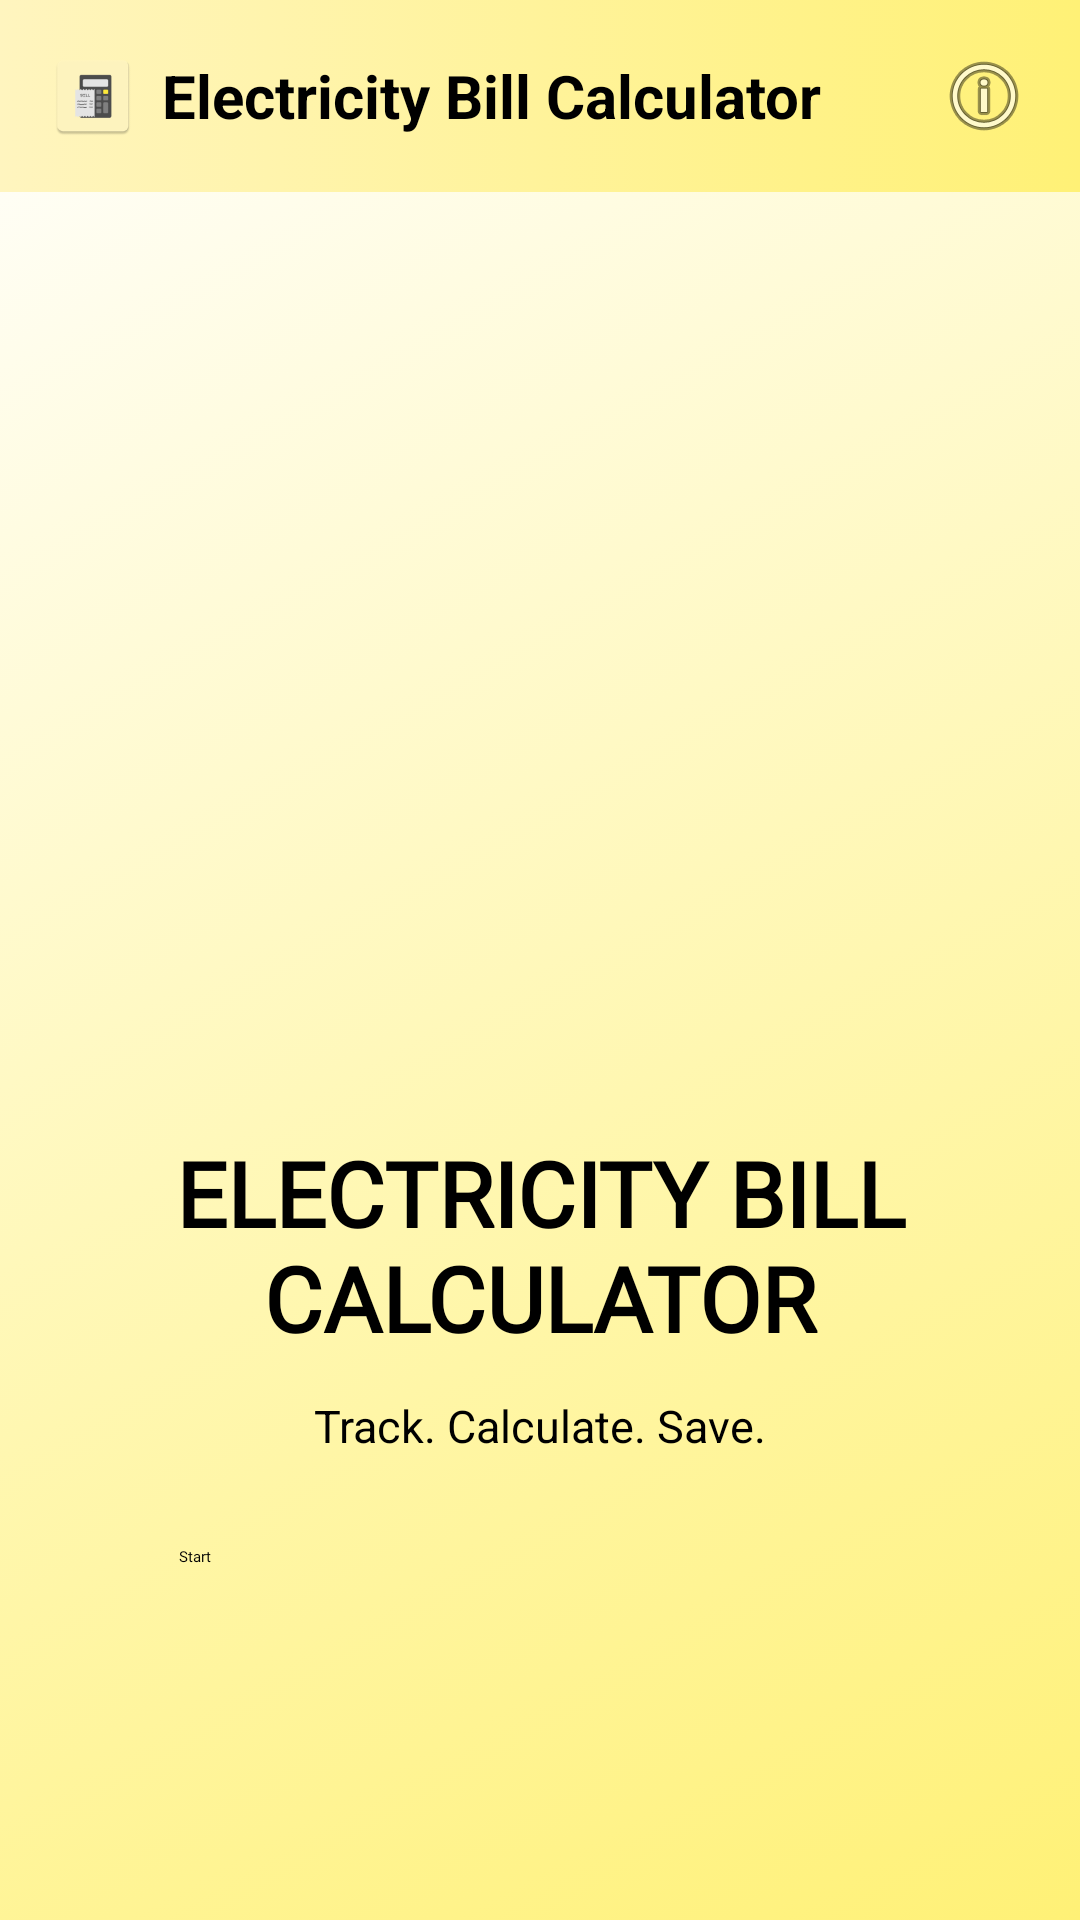

Icons on this 1080*1920 Android screen, each with its box as bbox=(x1, y1, x2, y2):
Info: bbox=(949, 61, 1019, 131)
